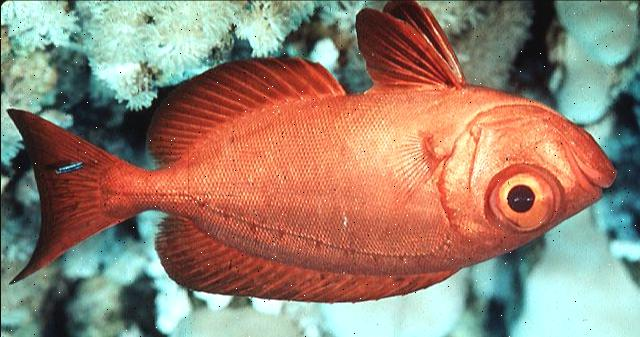Mulut: (562, 141, 622, 209)
Sirip Anal: (143, 57, 341, 165), (350, 3, 466, 93)
Sirip Dada: (372, 123, 443, 209)
Sirip Ekor: (4, 106, 124, 288)
Sirip Punggung: (152, 215, 452, 307)
